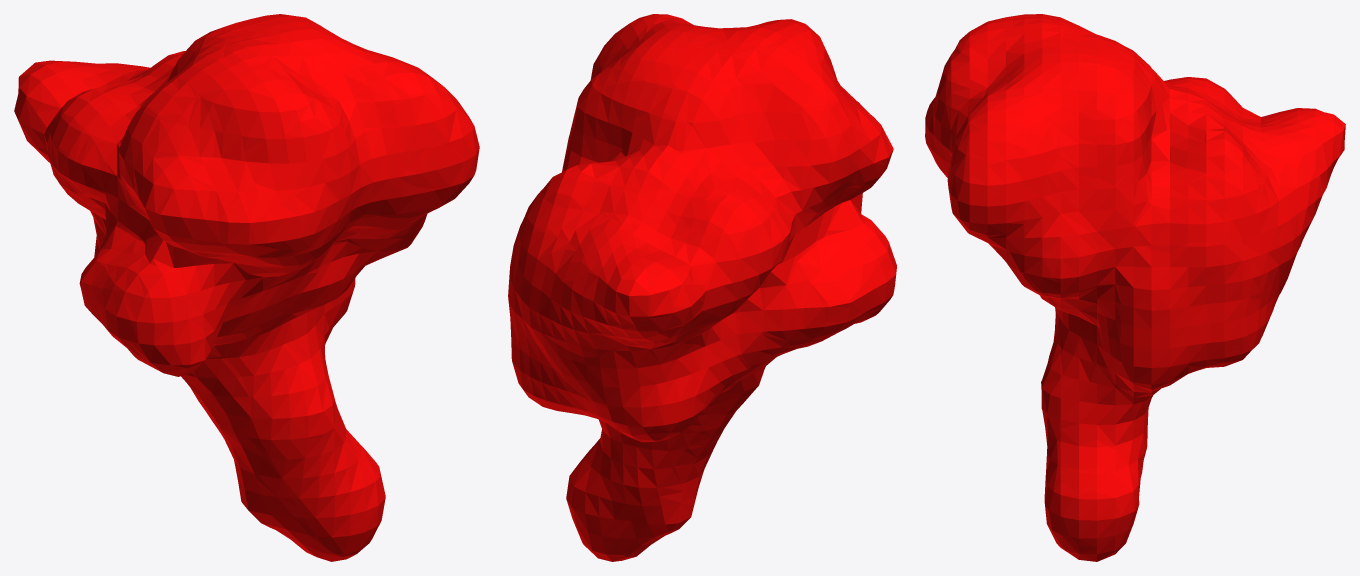
The model's file is ribC_coarse.dae.
3 views of the same model, side by side, from view 1: azimuth 30°, elevation 25°; view 2: azimuth 150°, elevation 25°; view 3: azimuth 270°, elevation 25° (orthographic). The views are drawn at different scales.
Visible parts, largest first — view 1: ribC; view 2: ribC; view 3: ribC.
Boxes of the visible parts, left/top/right/bottom form: ribC: left=14, top=14, right=479, bottom=561; ribC: left=508, top=14, right=896, bottom=561; ribC: left=925, top=14, right=1345, bottom=561.
Bounding box in the file's own units: 42.07 × 66.71 × 52.23.
